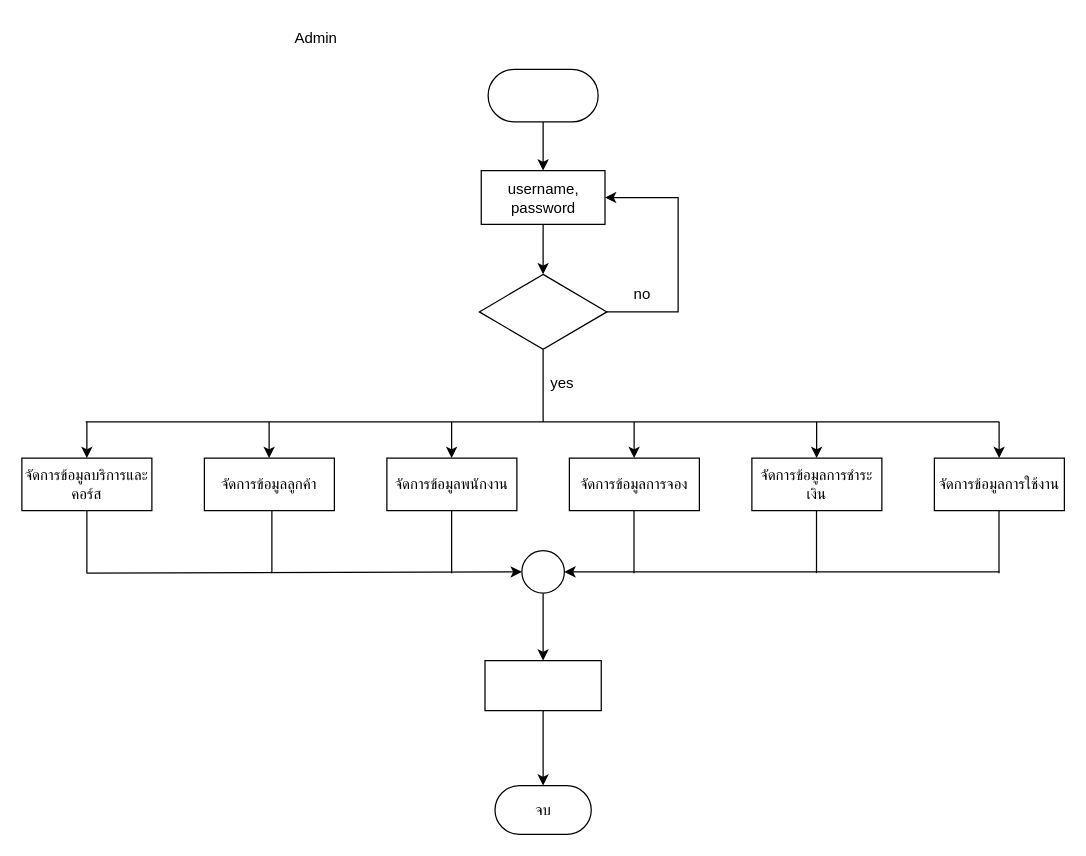
Some shapes in this 1086 by 856 pixel diagram are drawn without their labels. The box of each missing label's shape, as (x1, y1, x2, y2) in pixels:
success: (478, 273, 607, 349)
เริ่มต้น: (487, 68, 598, 122)
แสดงข้อมูล: (484, 659, 601, 711)
